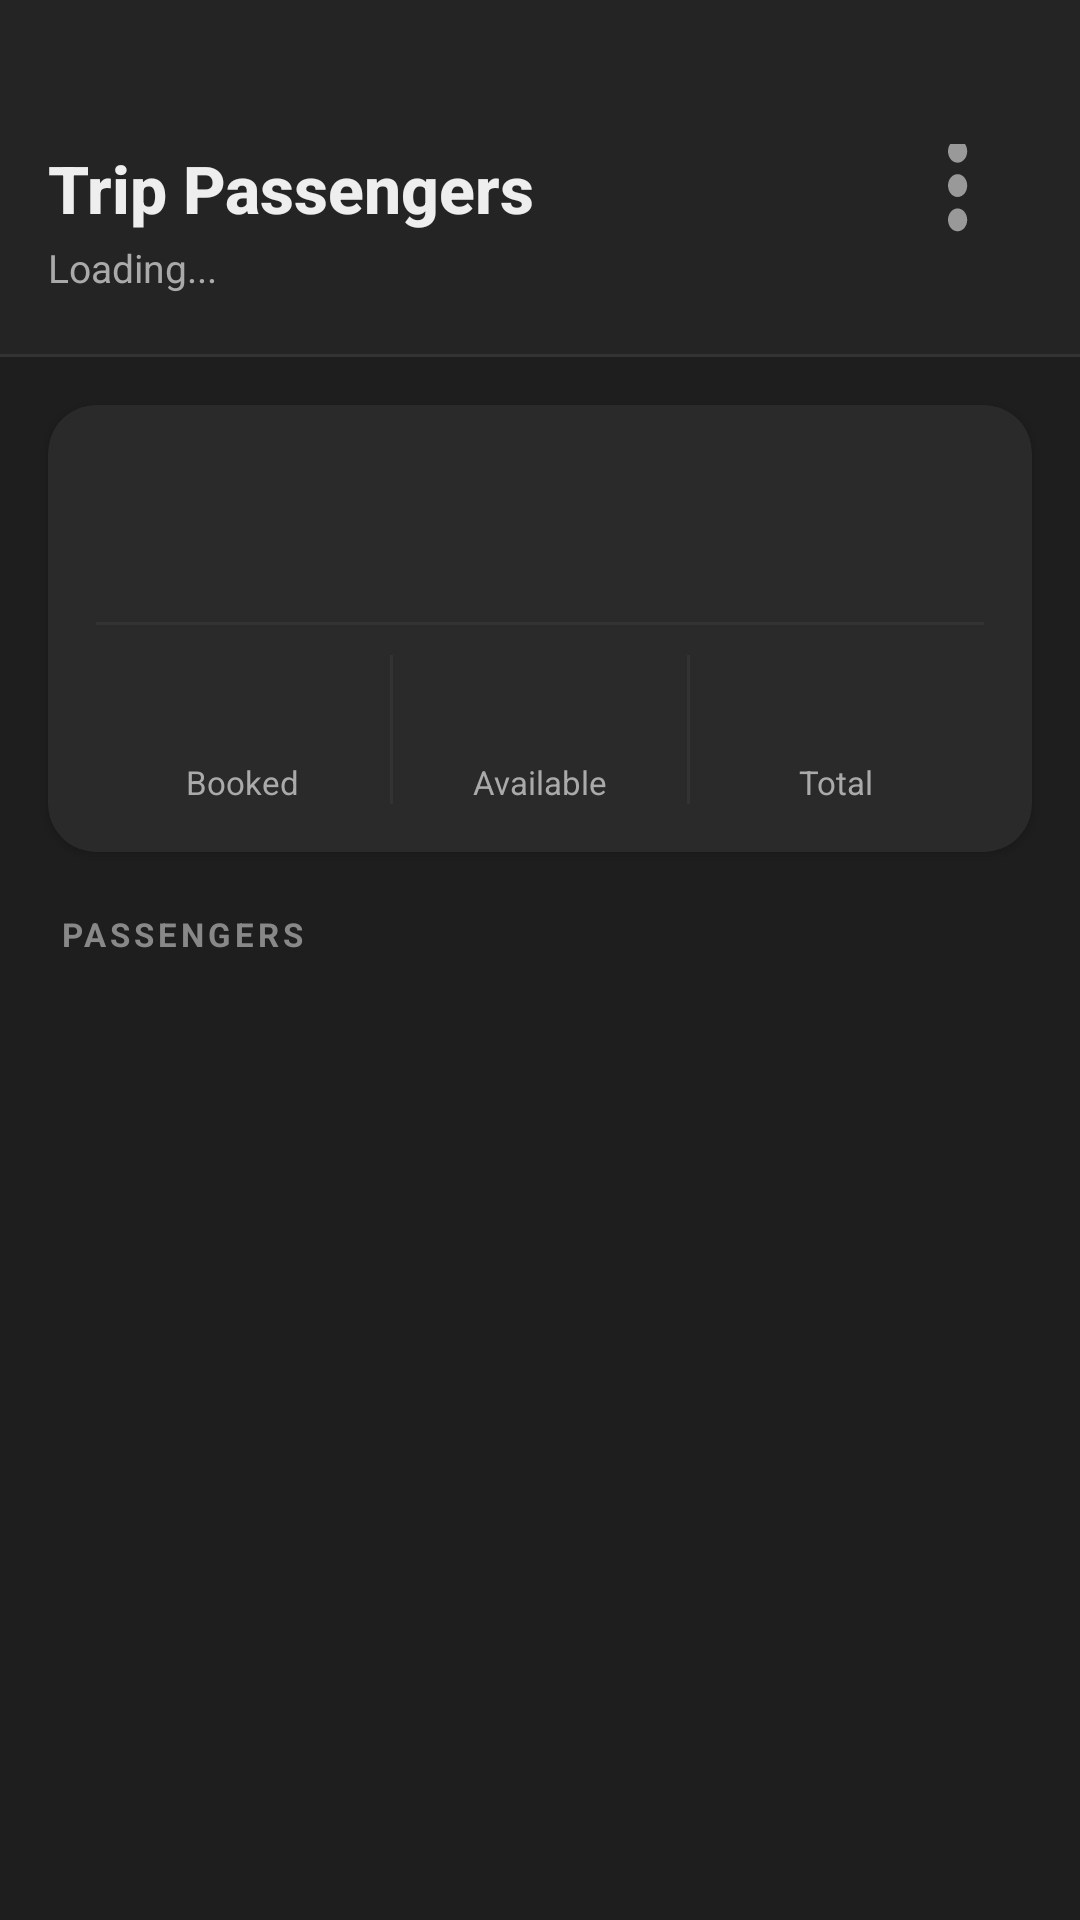

Screen size 1080*1920. Icon name, then its center in pixels as point (x, y):
More options: point (958, 188)
